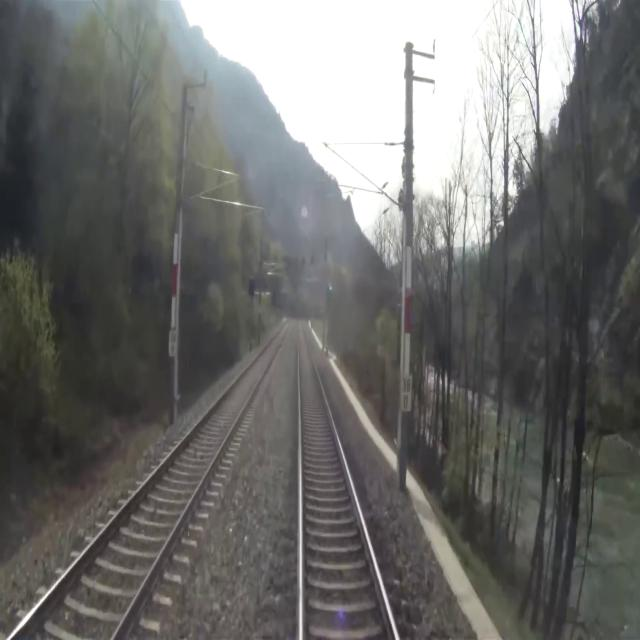rail-track: (13, 318, 291, 639), (299, 318, 395, 639)
